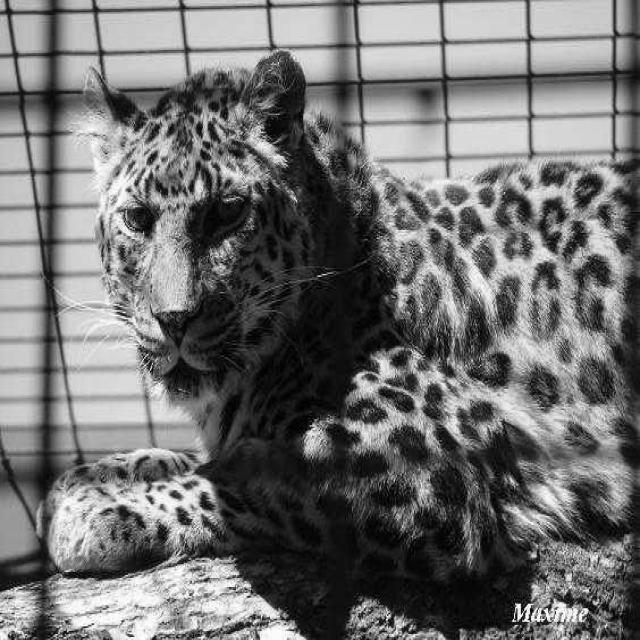Leopard: (34, 47, 638, 588)
